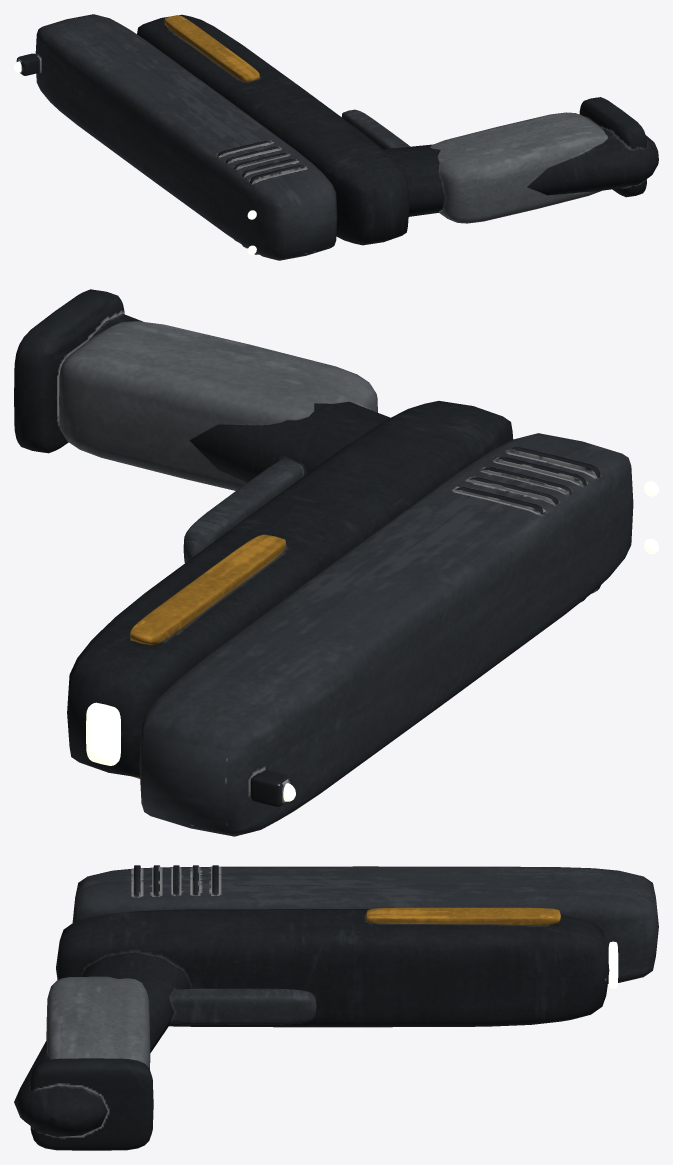
The model's file is sp2_world.glb.
The picture shows the model from 3 angles, top to bottom: view 1: azimuth 30°, elevation 25°; view 2: azimuth 150°, elevation 25°; view 3: azimuth 270°, elevation 25°; orthographic projection. The views are drawn at different scales.
Parts seen in each view (by area): view 1: sp2_world; view 2: sp2_world; view 3: sp2_world.
Boxes of the visible parts, box(x1,y1,x2,y2) form: sp2_world: box(14, 14, 658, 260); sp2_world: box(14, 289, 658, 836); sp2_world: box(14, 865, 658, 1150).
Bounding box in the file's own units: 0.165 × 0.036 × 0.1978.
Materials: 3 (1 with a texture image).
